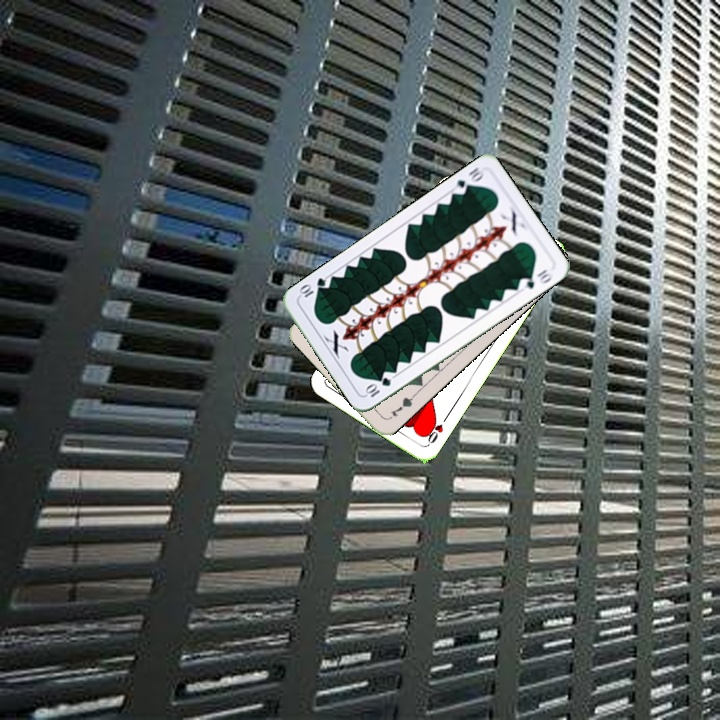G10: (449, 163, 486, 198), (361, 373, 394, 400)
G7: (386, 390, 417, 419)
HO: (420, 411, 451, 448)
